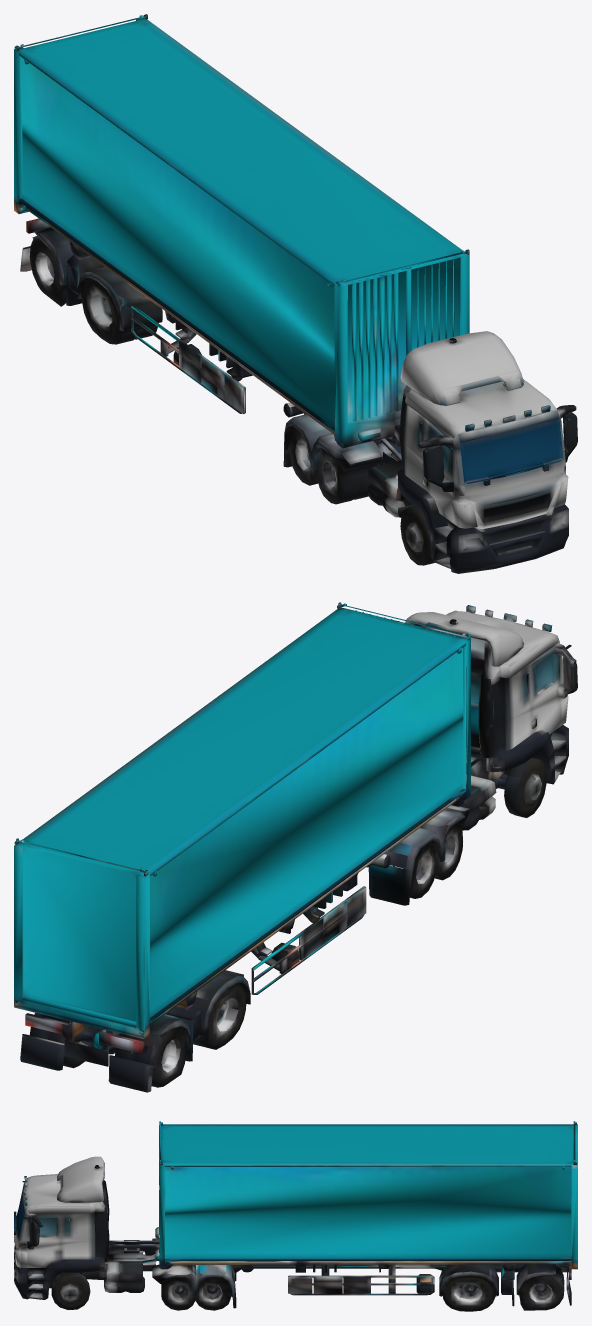
File: truck_container.glb
The picture shows the model from 3 angles, top to bottom: view 1: azimuth 30°, elevation 25°; view 2: azimuth 150°, elevation 25°; view 3: azimuth 270°, elevation 25°; orthographic projection. The views are drawn at different scales.
Visible parts, largest first — view 1: tripo_node_43921879; view 2: tripo_node_43921879; view 3: tripo_node_43921879.
Part boxes in pixels (bbox=[...]): tripo_node_43921879: bbox=[14, 14, 577, 573]; tripo_node_43921879: bbox=[14, 602, 577, 1092]; tripo_node_43921879: bbox=[14, 1121, 577, 1311].
Size of the model in its own units: 20.52 by 29.49 by 100.
Materials: 1 (1 with a texture image).
